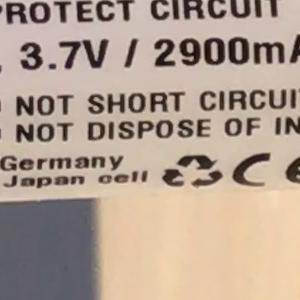keyword: (10, 29, 116, 80)
